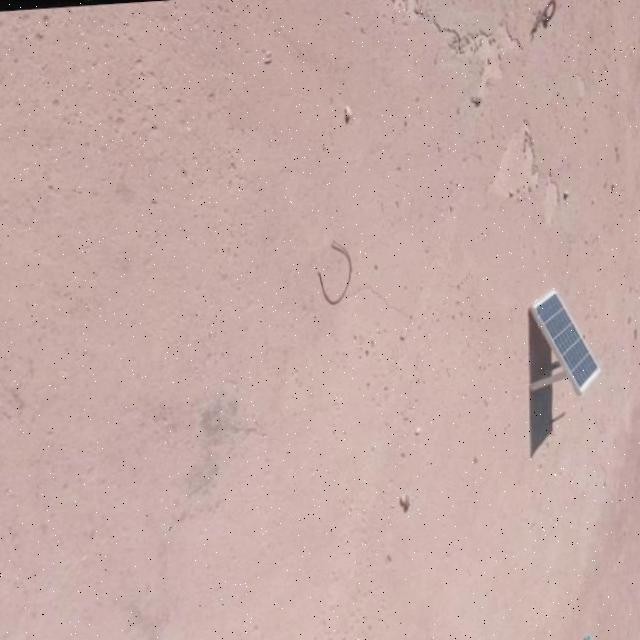Normal Solar Panel: (532, 284, 602, 396)
